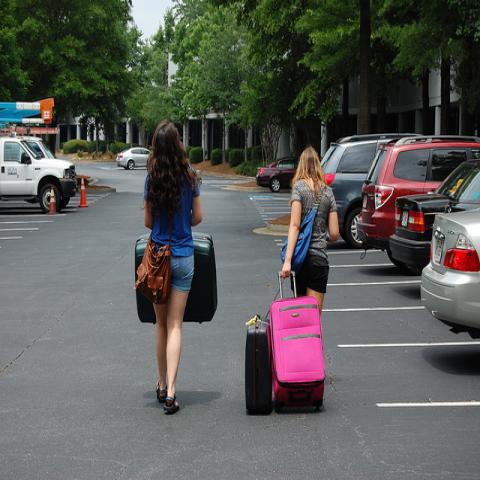car: (356, 135, 480, 264), (316, 136, 413, 245), (392, 160, 478, 261), (419, 208, 479, 341), (256, 157, 300, 194), (116, 147, 150, 171)
truck: (0, 123, 78, 209)
